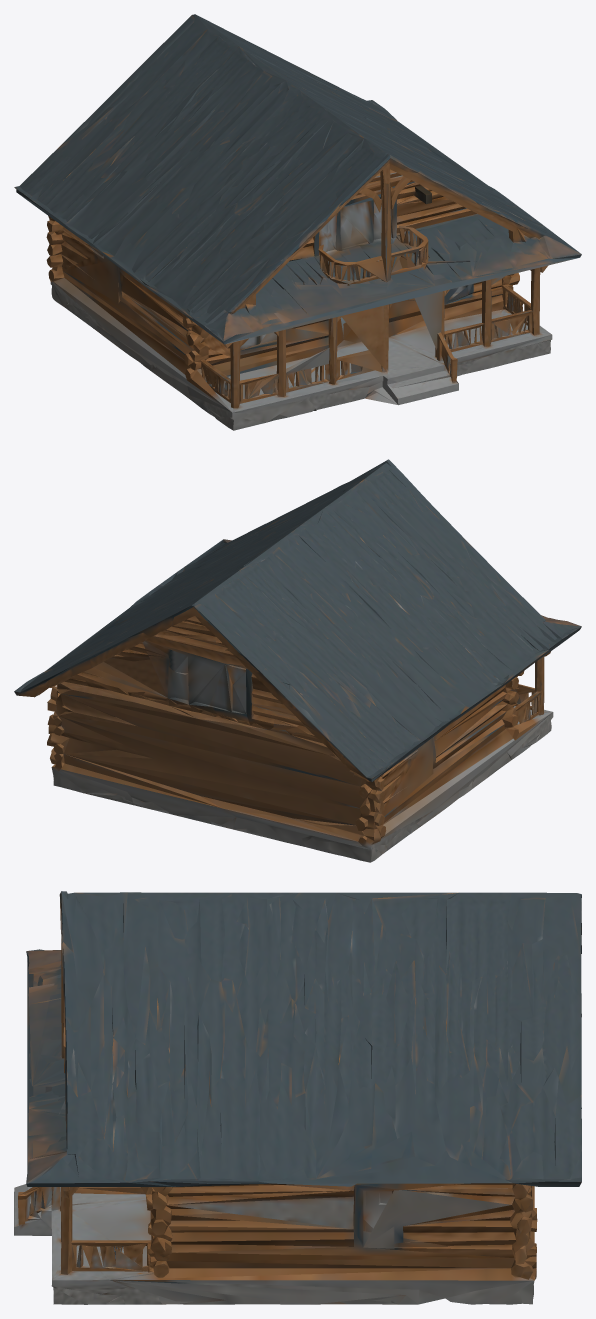
The model's file is visitor_center.glb.
3 views of the same model, one above another, from view 1: azimuth 30°, elevation 25°; view 2: azimuth 150°, elevation 25°; view 3: azimuth 270°, elevation 25° (orthographic). The views are drawn at different scales.
Bounding box in the file's own units: 1.84 × 1.15 × 1.9.
1 material, 1 textured.
